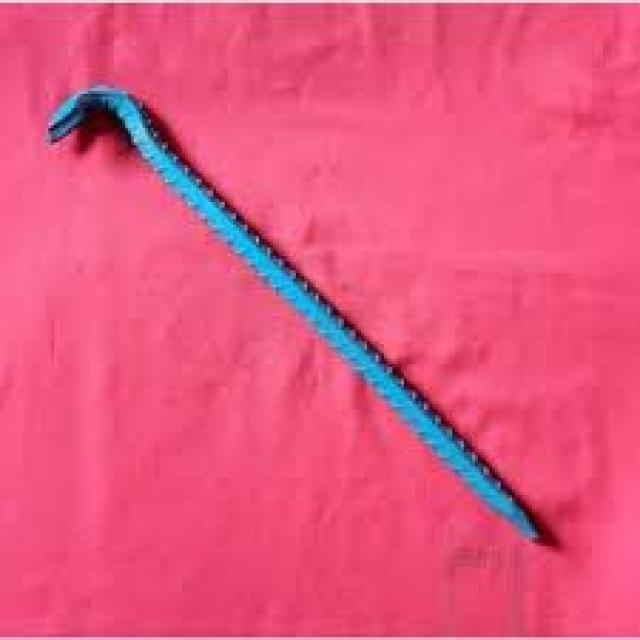Linggis: (47, 70, 564, 546)
